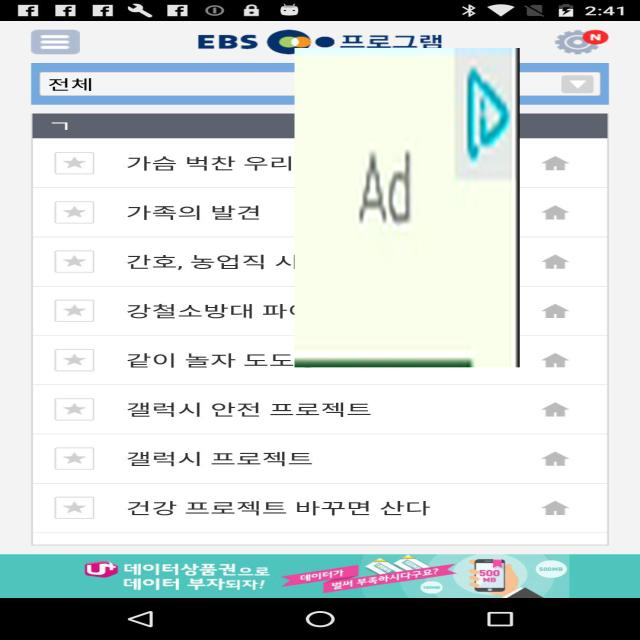sneaking: (294, 48, 520, 367)
